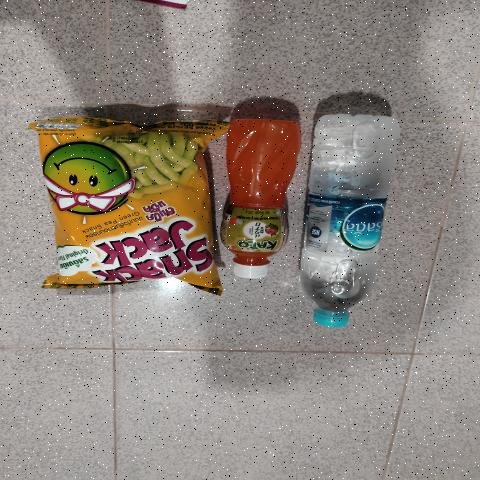crystal: (323, 118, 382, 312)
snack_jack: (60, 120, 211, 282)
